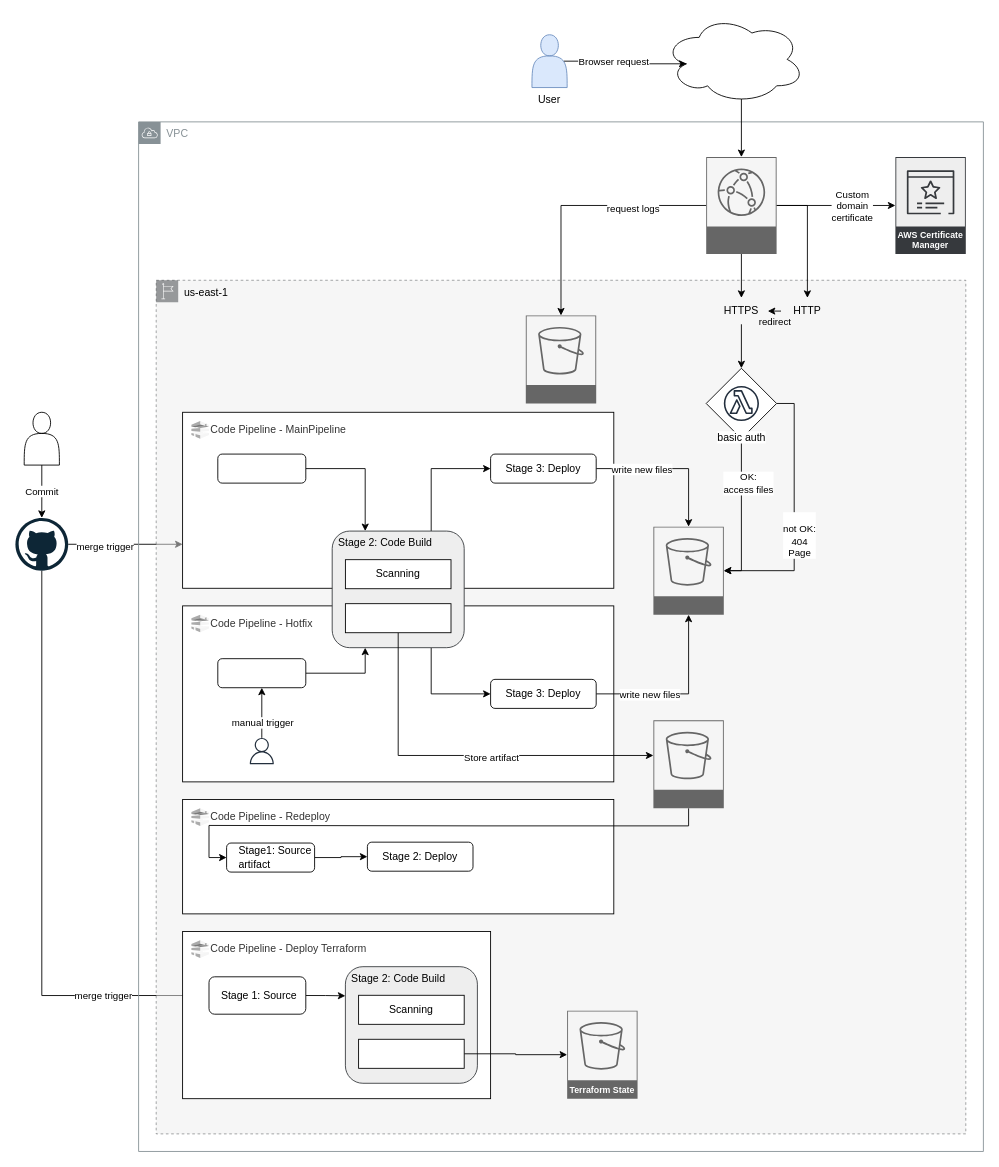
This 999x1167 diagram has some shape labels left out. The shapes that lost their labels are listed below. From the top down, each one's centre as x and y in pixels, then its label:
At [734,59]: "Domain DNS Cloudflare".
At [741,205]: "Amazon Cloudfront".
At [560,359]: "Logs".
At [261,468]: "Stage 1: Source main branch".
At [688,570]: "Static site".
At [398,618]: "Build".
At [261,673]: "Stage 1: Source any branch".
At [688,763]: "Artifacts".
At [411,1053]: "Deploy".
